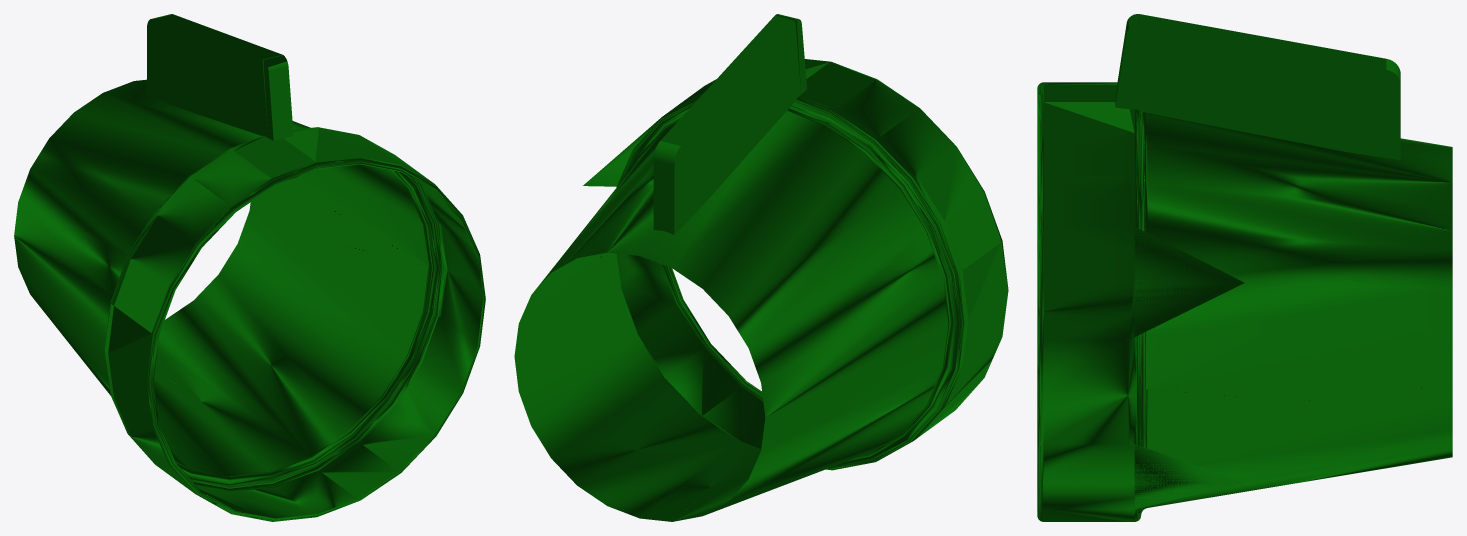
Rendered from model_align.obj.
3 views of the same model, side by side, from view 1: azimuth 30°, elevation 25°; view 2: azimuth 150°, elevation 25°; view 3: azimuth 270°, elevation 25° (orthographic). The views are drawn at different scales.
Size of the model in its own units: 0.0921 by 0.1112 by 0.0867.
